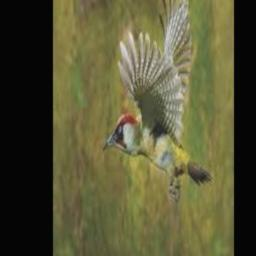Woodpecker: (103, 0, 214, 201)
